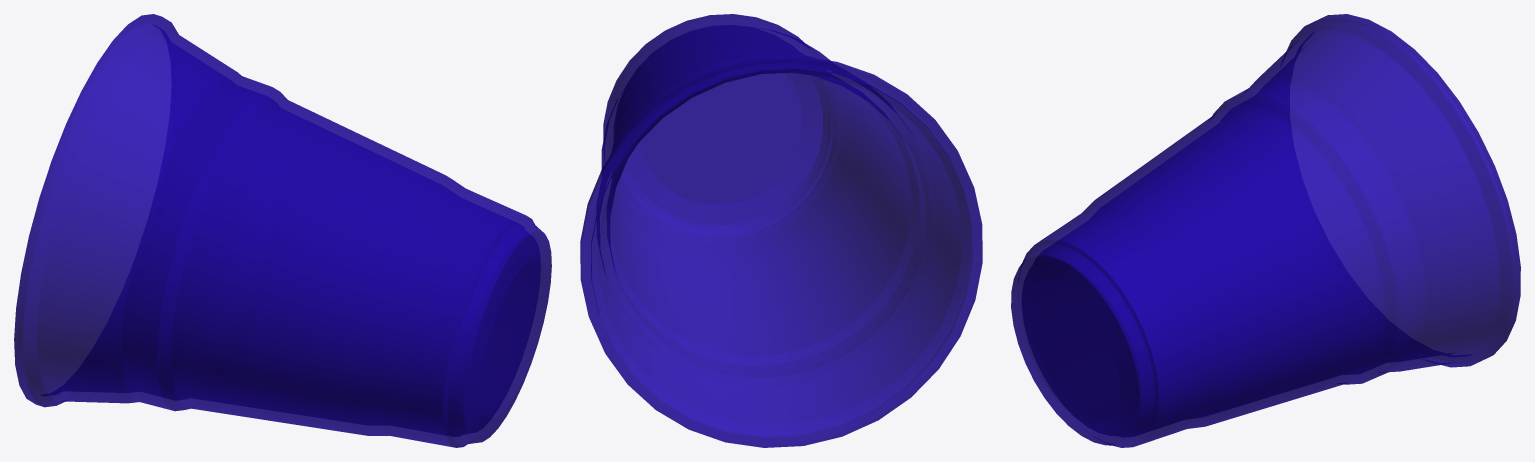
The model's file is becher.fbx.
The picture shows the model from 3 angles, left to right: view 1: azimuth 30°, elevation 25°; view 2: azimuth 150°, elevation 25°; view 3: azimuth 270°, elevation 25°; orthographic projection. The views are drawn at different scales.
Parts seen in each view (by area): view 1: becher; view 2: becher; view 3: becher.
Part boxes in pixels (x1=…): becher: x1=14, y1=14, x2=551, y2=447; becher: x1=580, y1=14, x2=982, y2=447; becher: x1=1011, y1=14, x2=1520, y2=447.
Size of the model in its own units: 257 by 198 by 268.
